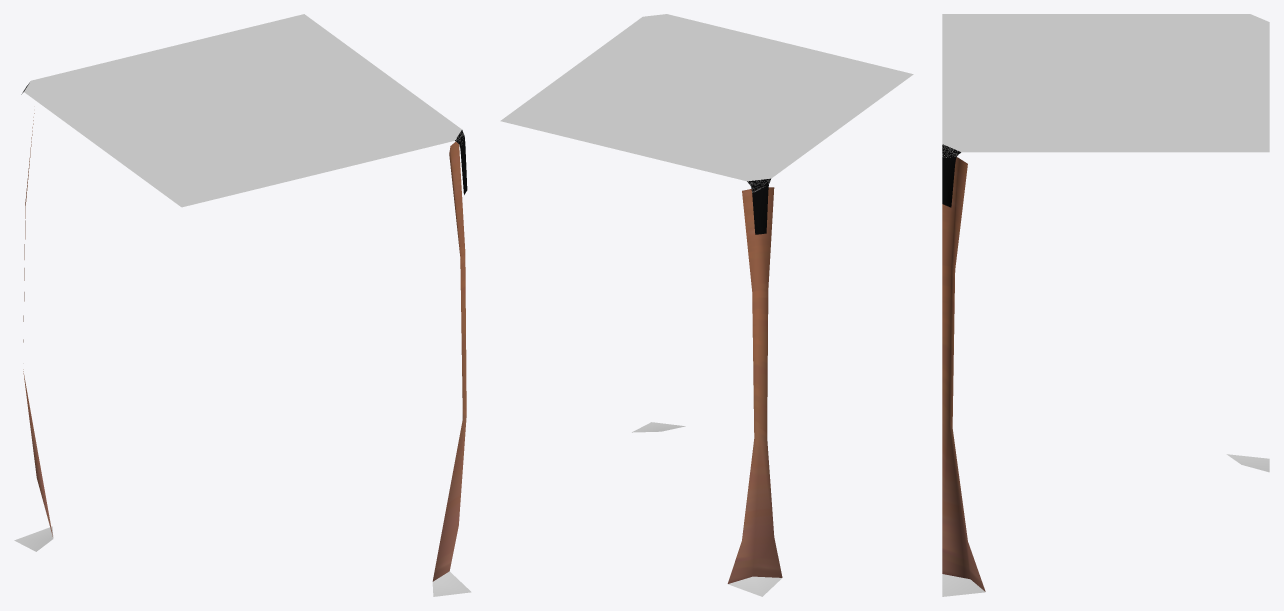
3 views of the same model, side by side, from view 1: azimuth 30°, elevation 25°; view 2: azimuth 150°, elevation 25°; view 3: azimuth 270°, elevation 25° (orthographic). The views are drawn at different scales.
Parts seen in each view (by area): view 1: GrassT__mGrass, CliffThin_1__mCliff, GrassB_1__mGrass; view 2: GrassT__mGrass, CliffThin_1__mCliff, GrassB_1__mGrass, GrassOP_1__mGrassCliffXlu; view 3: GrassT__mGrass, CliffThin_1__mCliff, GrassB_1__mGrass, GrassOP_1__mGrassCliffXlu.
Part boxes in pixels (x1,y1,x2,y2): GrassT__mGrass: (22, 14, 463, 207); CliffThin_1__mCliff: (23, 113, 466, 581); GrassB_1__mGrass: (14, 526, 471, 596); GrassT__mGrass: (500, 14, 913, 192); CliffThin_1__mCliff: (727, 187, 782, 583); GrassB_1__mGrass: (632, 422, 781, 596); GrassOP_1__mGrassCliffXlu: (747, 178, 770, 234); GrassT__mGrass: (942, 14, 1269, 157); CliffThin_1__mCliff: (942, 157, 985, 591); GrassB_1__mGrass: (942, 454, 1269, 596); GrassOP_1__mGrassCliffXlu: (942, 144, 960, 207).
Bounding box in the file's own units: 10 × 15 × 10.
Materials: 3 (1 with a texture image).
